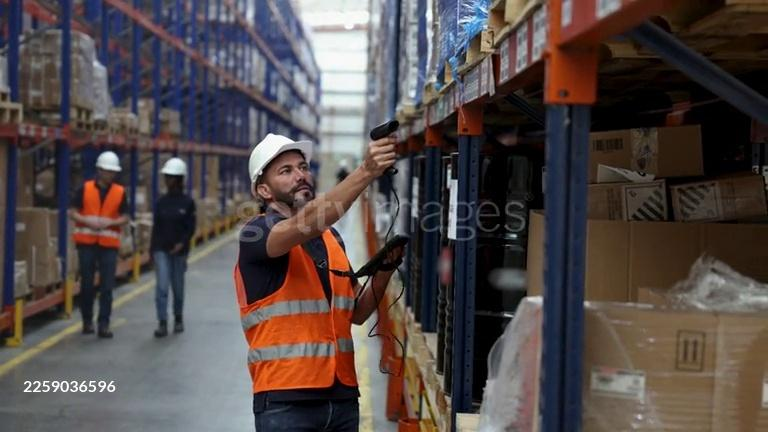helmet: (250, 132, 313, 196), (96, 150, 122, 172), (160, 157, 186, 176)
person: (232, 128, 403, 428), (69, 152, 133, 338), (146, 158, 197, 340)
